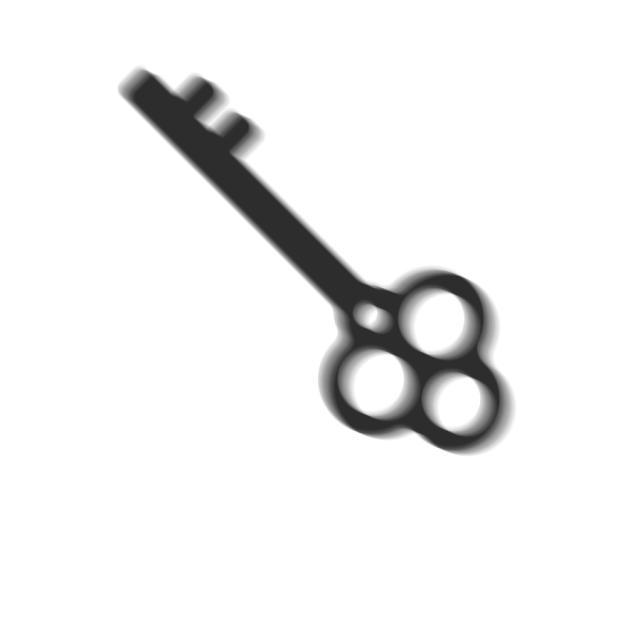key: (113, 60, 521, 465)
